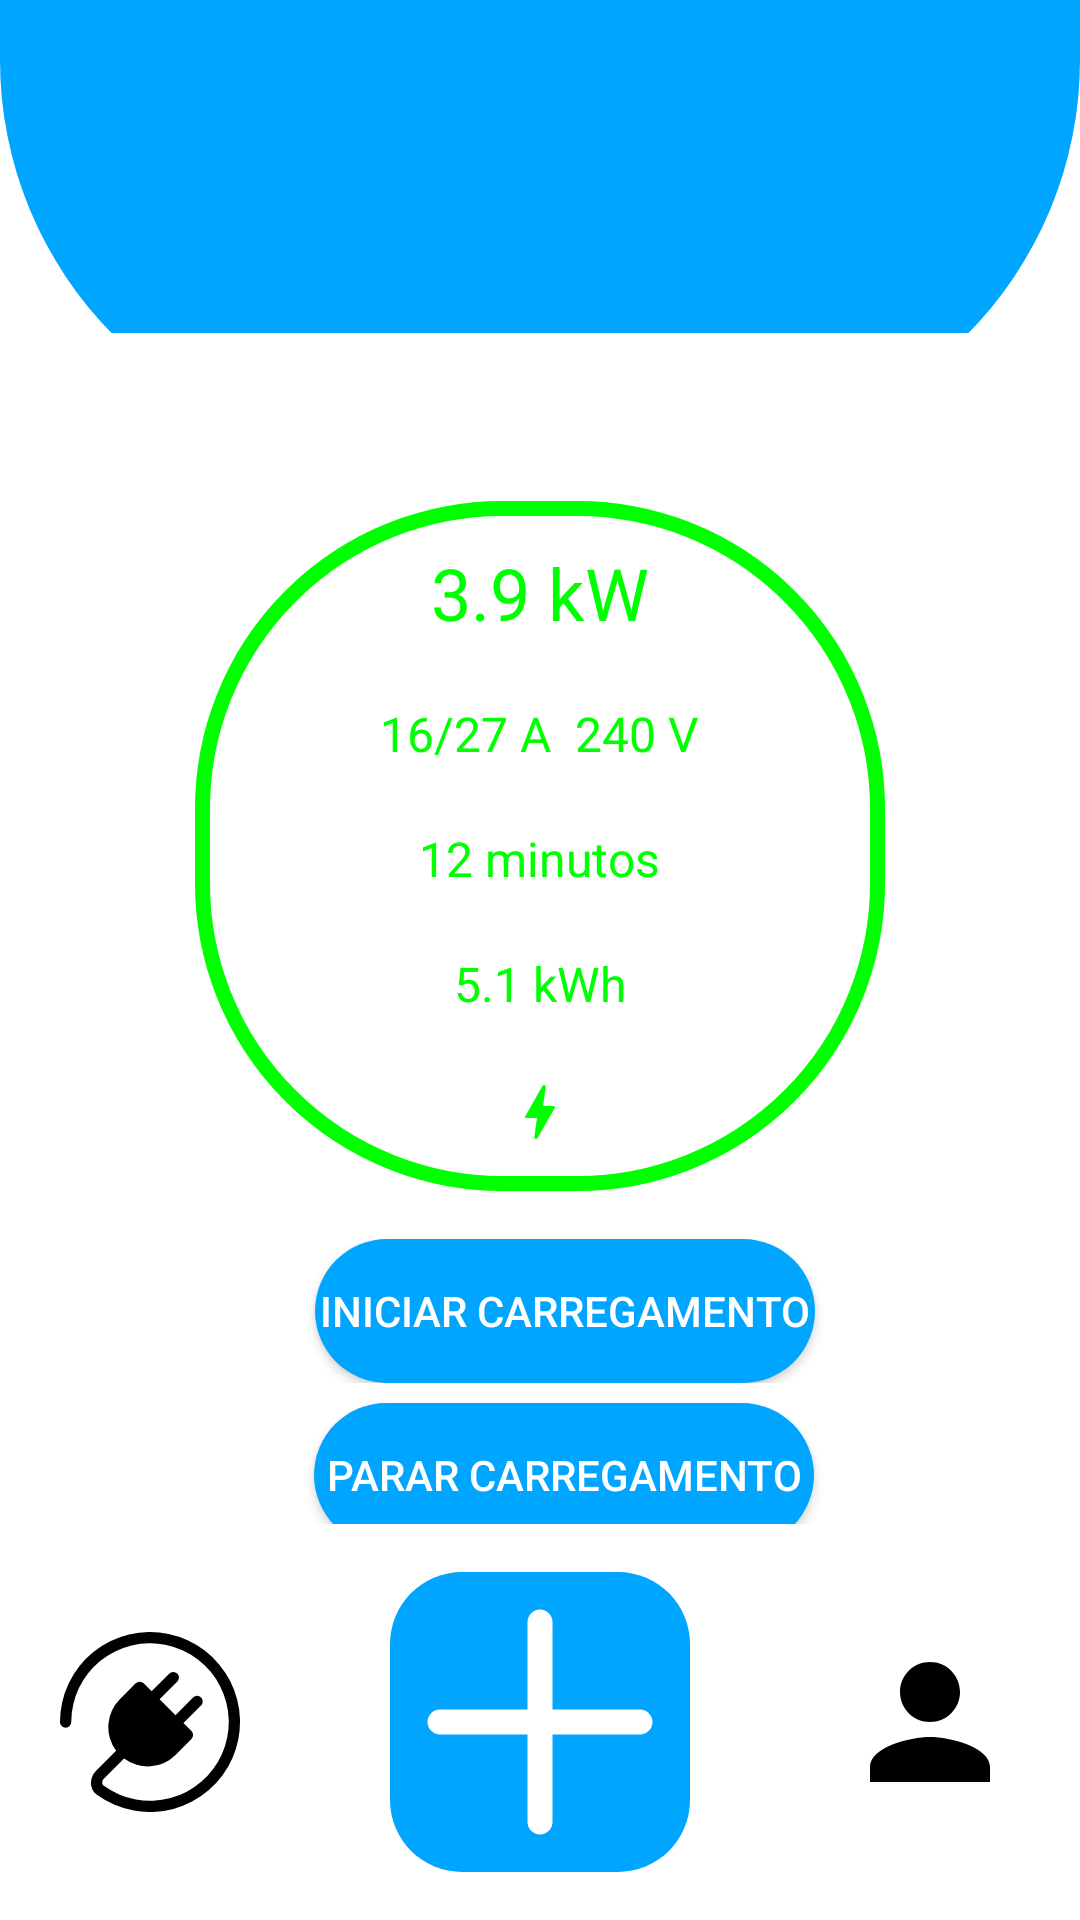

Where icons sit on this 1080px×1920px app screen, as detection(x1, y1, x2, y2):
Add: detection(390, 1572, 690, 1872)
Chargers: detection(60, 1632, 240, 1812)
Profile: detection(870, 1662, 990, 1782)
